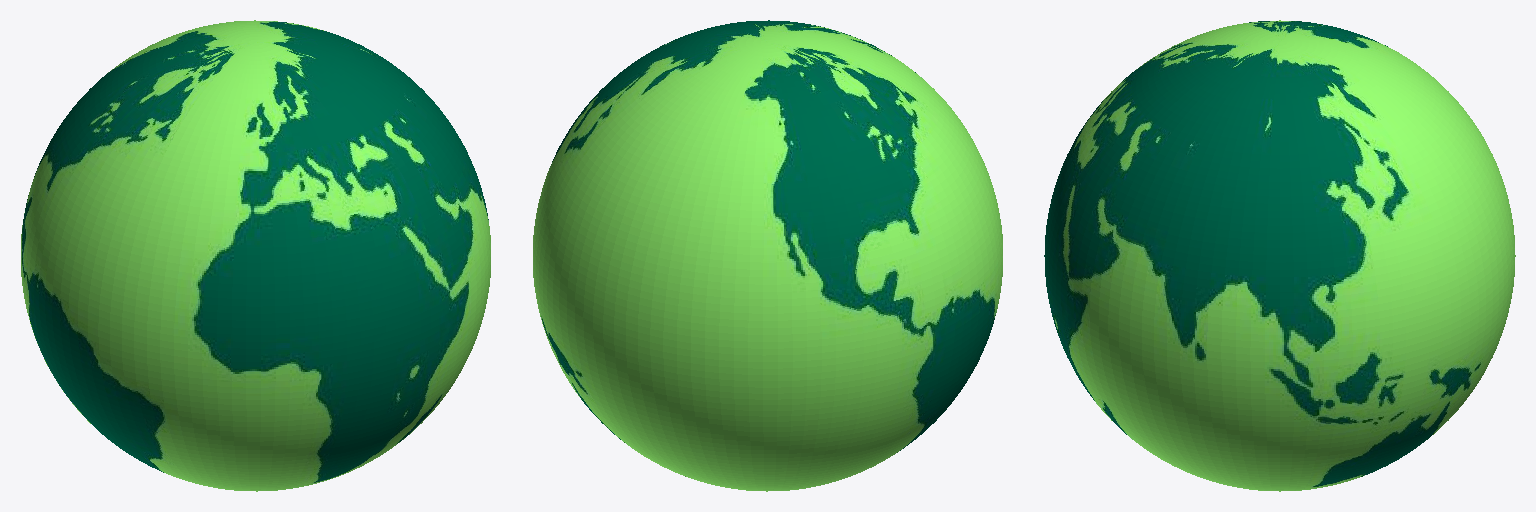
The picture shows the model from 3 angles: view 1: azimuth 30°, elevation 25°; view 2: azimuth 150°, elevation 25°; view 3: azimuth 270°, elevation 25°; orthographic projection.
Visible parts, largest first — view 1: 000_Earth; view 2: 000_Earth; view 3: 000_Earth.
Part boxes in pixels (x1,y1,x2,y2): 000_Earth: (21,20,490,491); 000_Earth: (533,20,1002,491); 000_Earth: (1044,20,1515,491).
Bounding box in the file's own units: 200 × 200 × 200.
Materials: 1 (1 with a texture image).